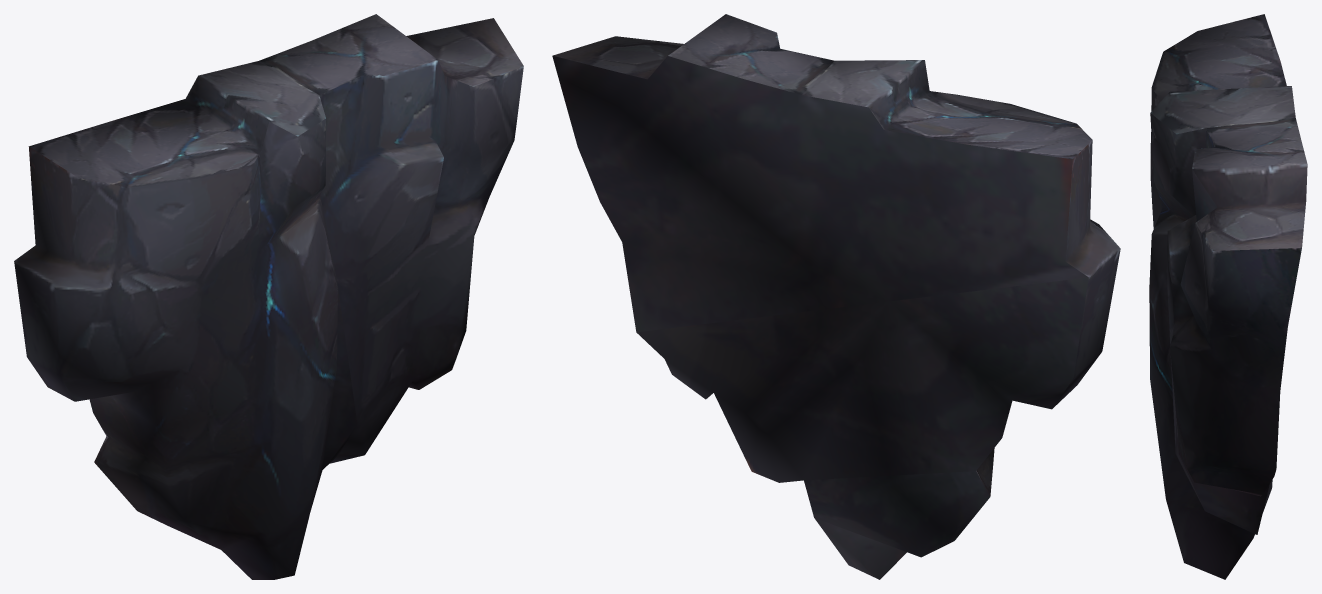
The model's file is fb_chisd_st_13.FBX.
The picture shows the model from 3 angles, left to right: view 1: azimuth 30°, elevation 25°; view 2: azimuth 150°, elevation 25°; view 3: azimuth 270°, elevation 25°; orthographic projection. The views are drawn at different scales.
Visible parts, largest first — view 1: fb_chisd_st_13; view 2: fb_chisd_st_13; view 3: fb_chisd_st_13.
Boxes of the visible parts, x1,y1,x2,y2 form: fb_chisd_st_13: [14, 14, 523, 579]; fb_chisd_st_13: [552, 14, 1120, 579]; fb_chisd_st_13: [1149, 14, 1307, 579].
Size of the model in its own units: 392 by 373 by 110.
